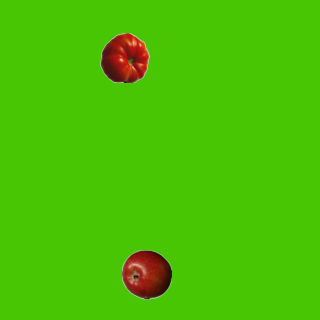Apple Braeburn: (121, 249, 171, 299)
Tomato 3: (99, 32, 149, 82)
